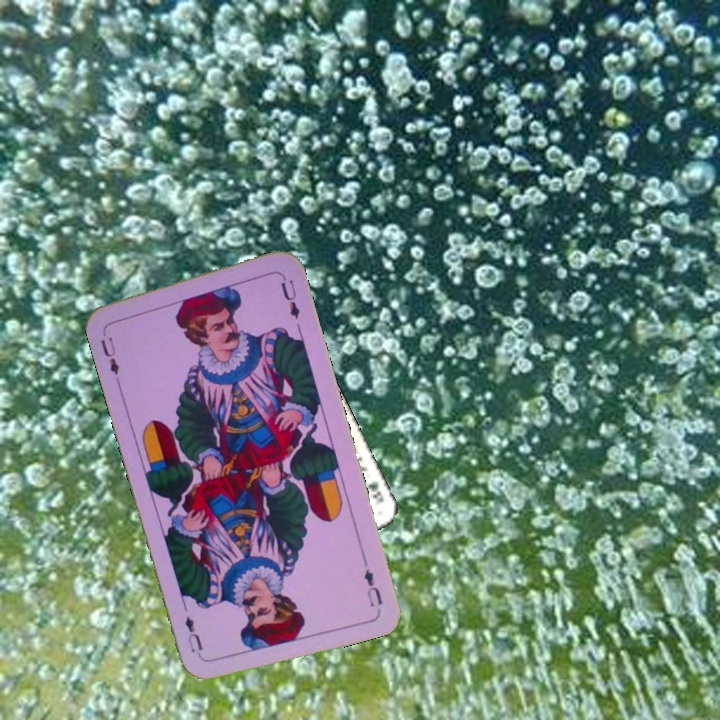EU: (96, 324, 122, 378), (360, 565, 385, 610)
GK: (359, 476, 386, 507)
